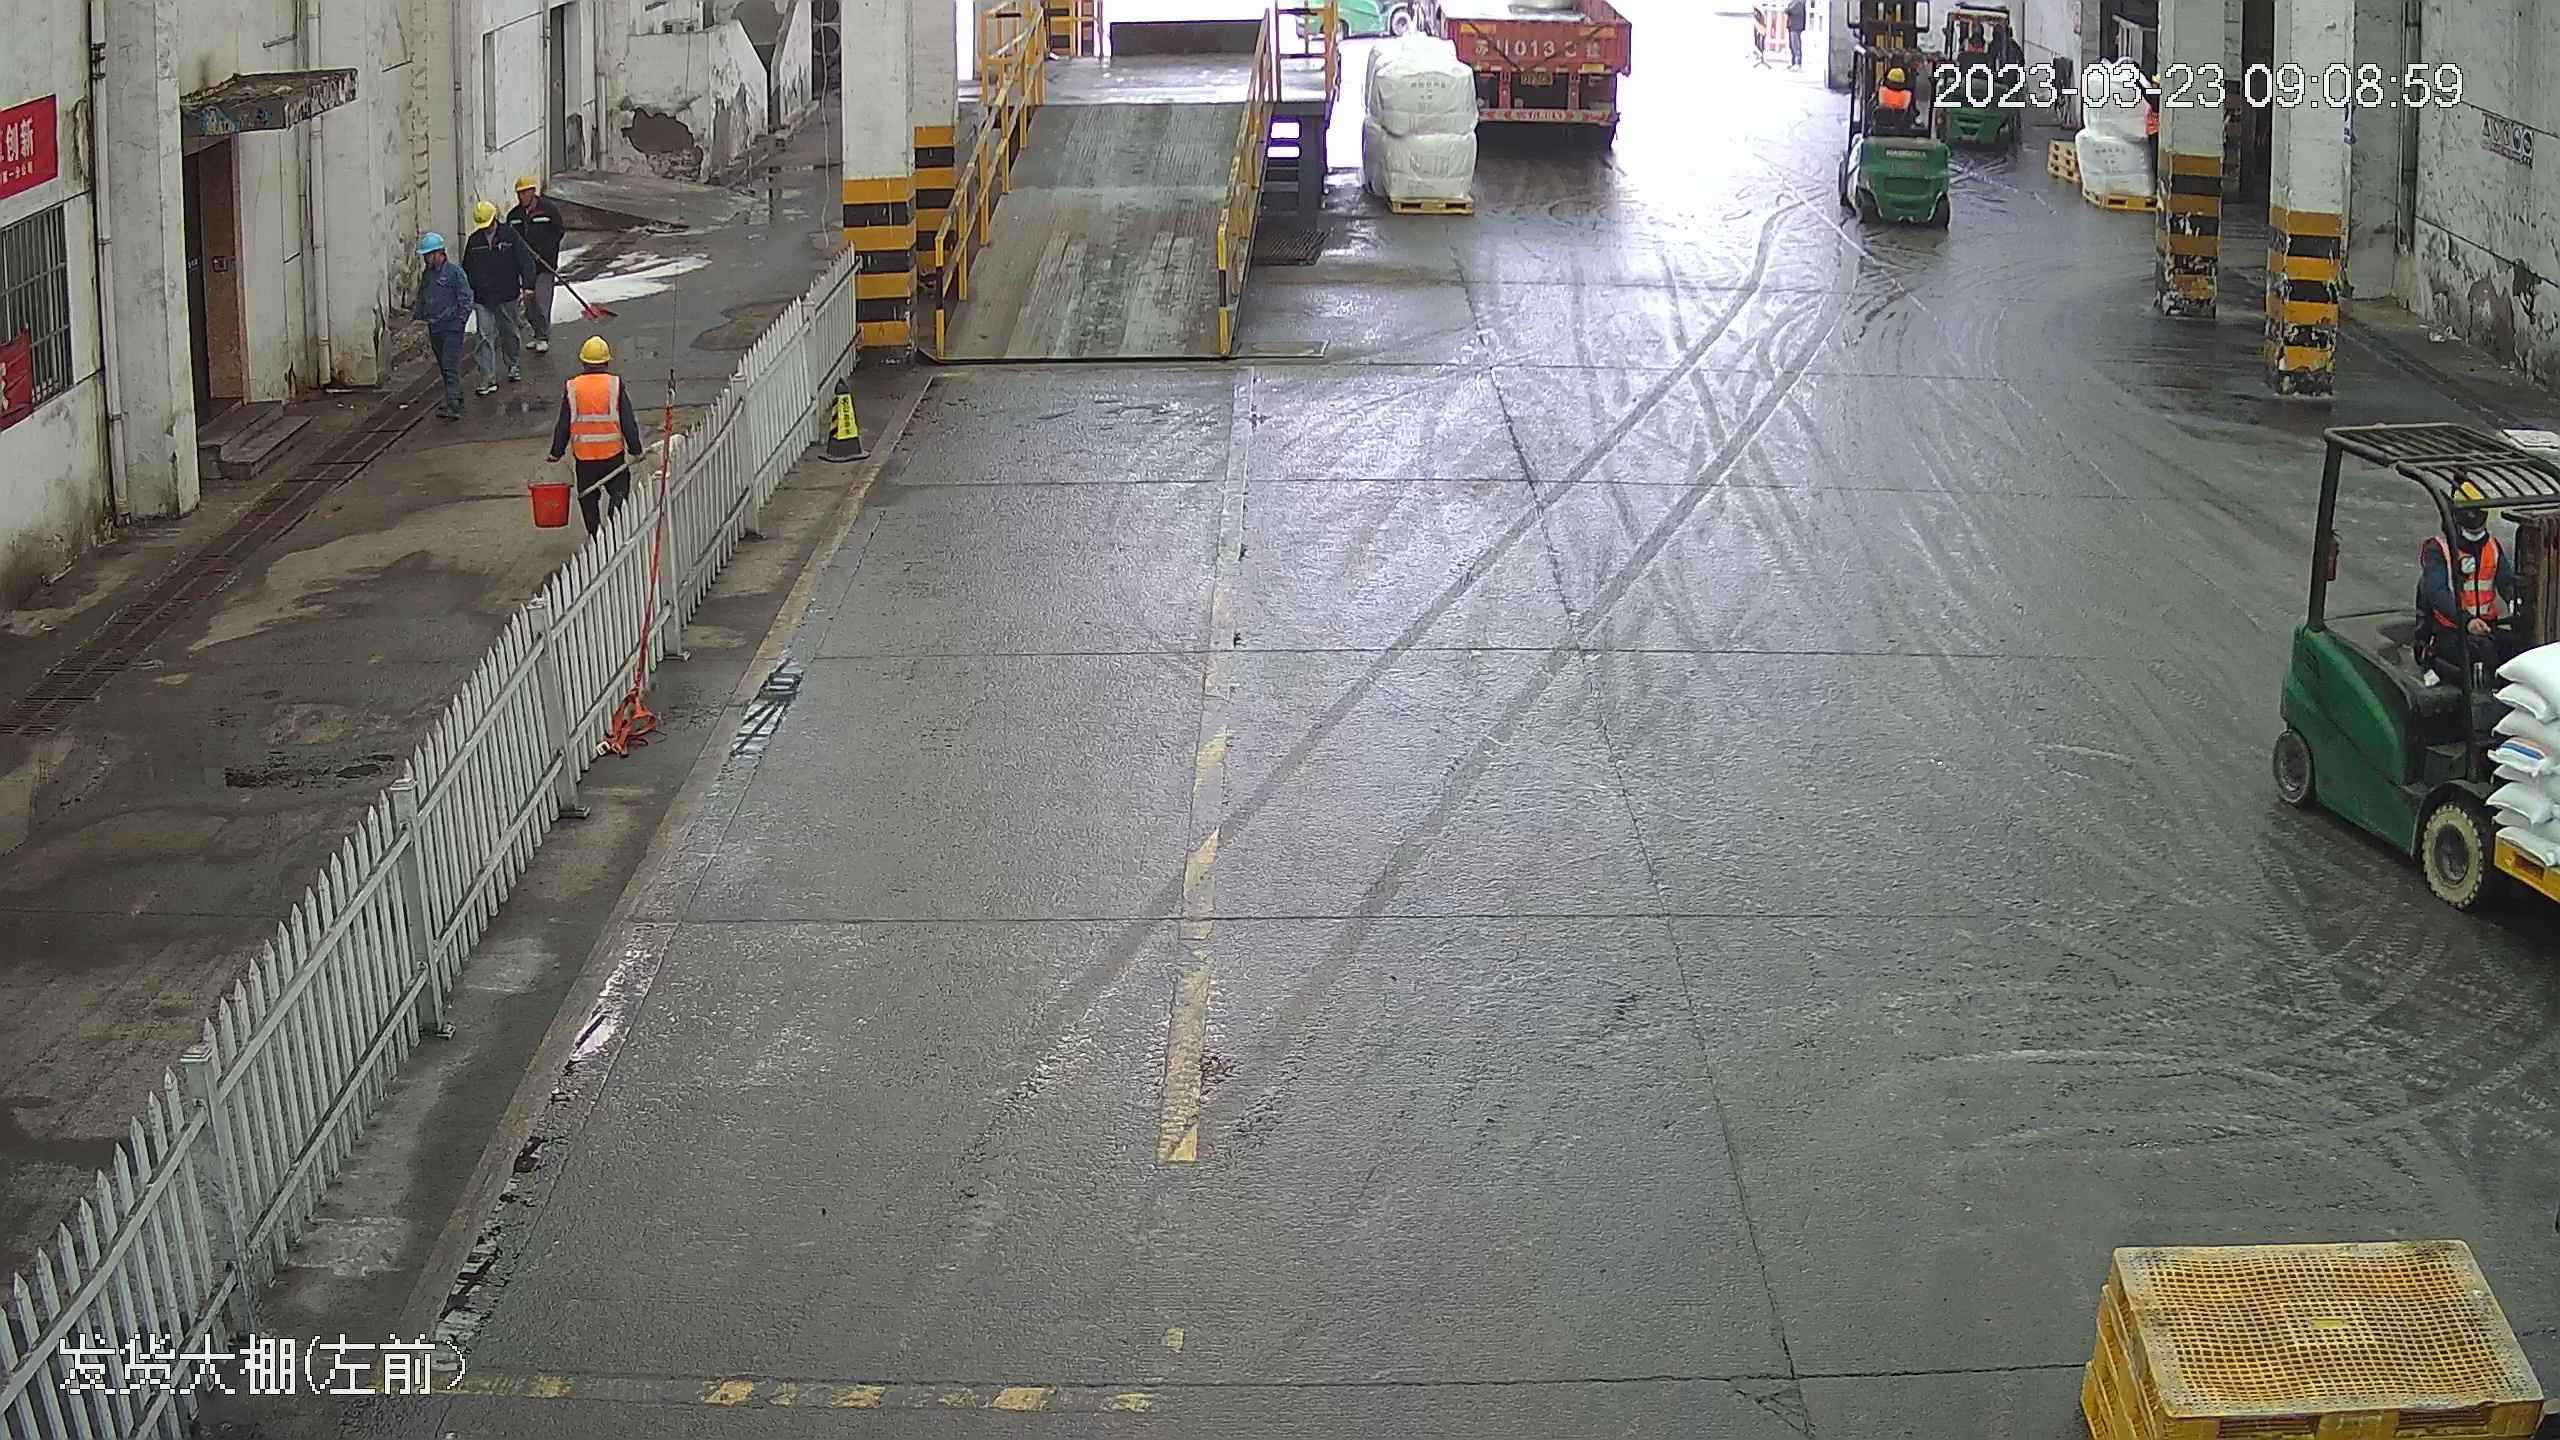head: (560, 329, 628, 413), (411, 230, 470, 292), (509, 170, 561, 229), (465, 195, 514, 256), (1874, 62, 1916, 108)
helmet: (470, 203, 512, 247), (575, 330, 612, 362), (417, 230, 449, 257), (513, 170, 545, 193), (1885, 60, 1911, 81)
people: (552, 329, 641, 531), (407, 224, 477, 424), (459, 191, 529, 391), (508, 168, 565, 347)
truck: (1435, 2, 1641, 136)
